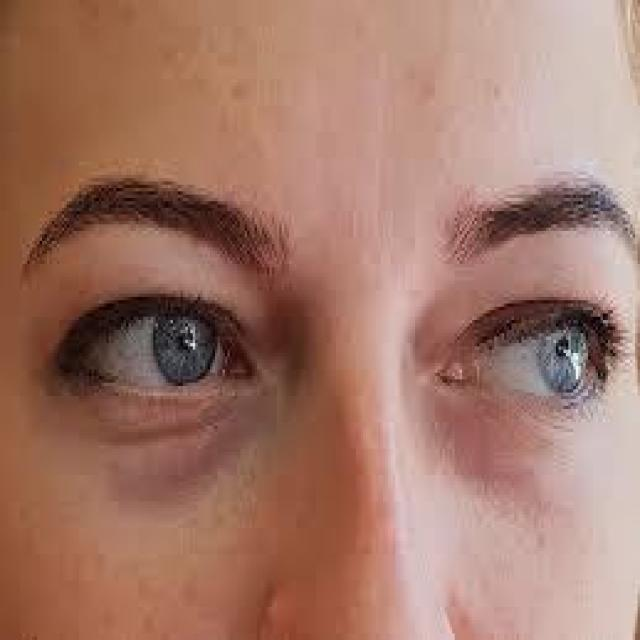Eyebags: (57, 389, 263, 505), (436, 398, 608, 509)
